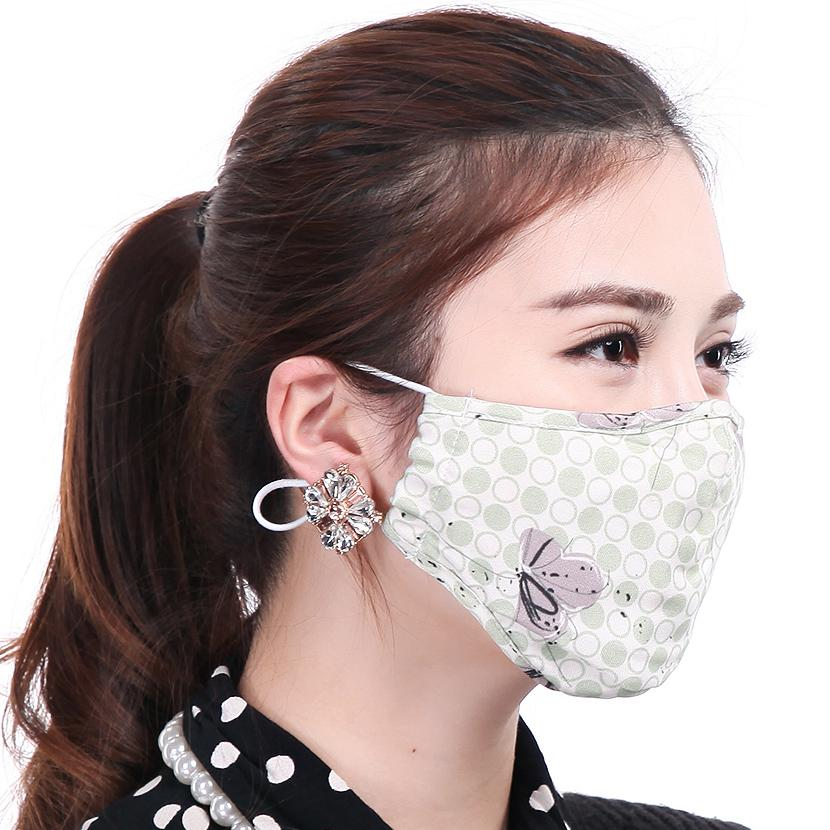OK: (327, 277, 748, 698)
